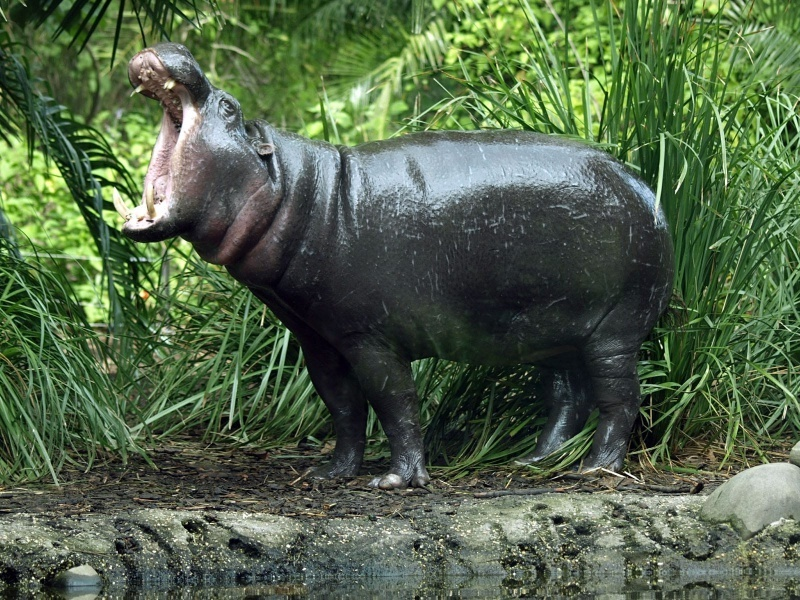hipopotamo: (90, 40, 678, 488)
